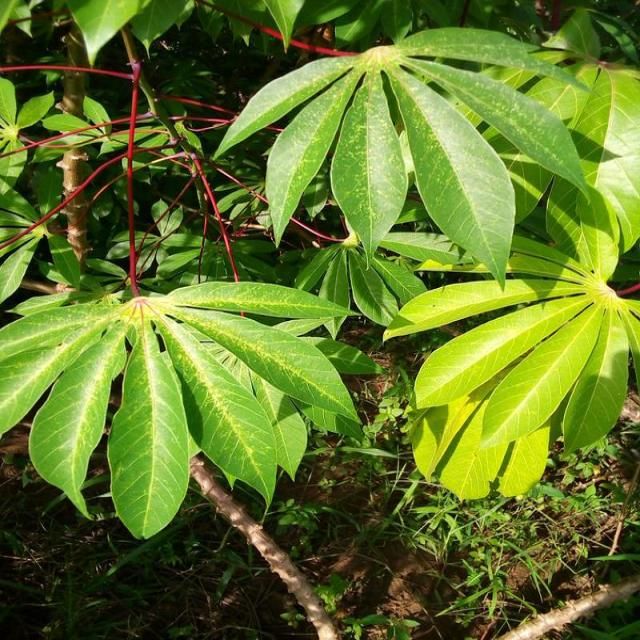cassava leaf: (212, 23, 594, 286), (1, 280, 365, 538)
